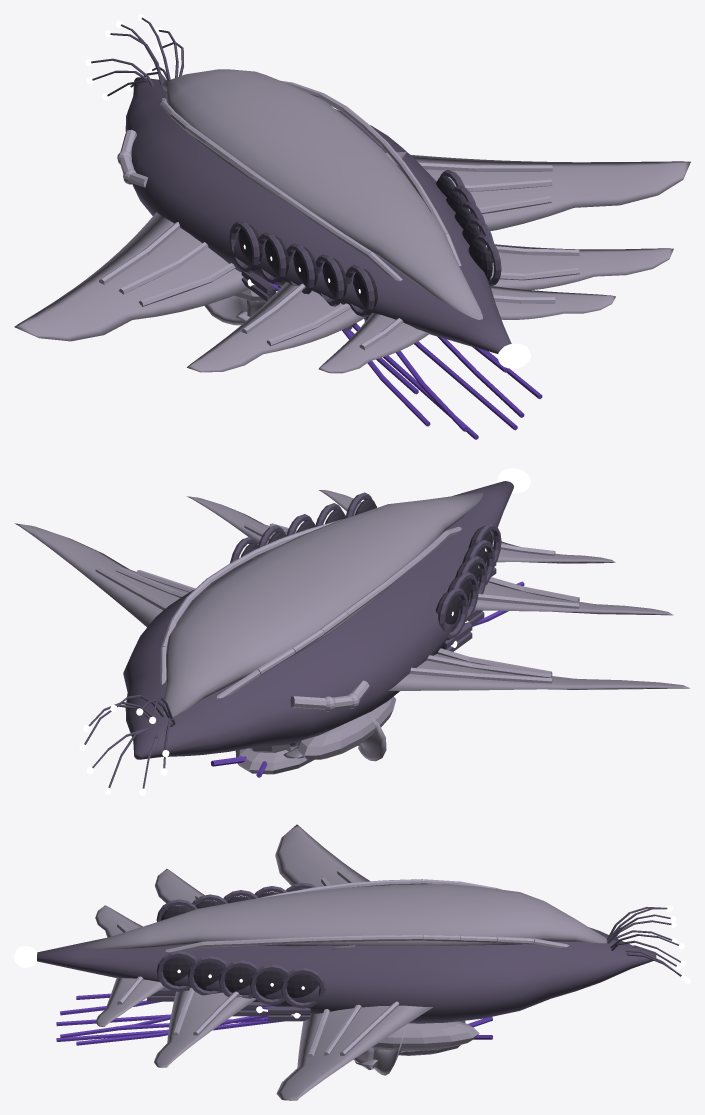
3 renders of one model, top to bottom at view 1: azimuth 30°, elevation 25°; view 2: azimuth 150°, elevation 25°; view 3: azimuth 270°, elevation 25°, orthographic. The views are drawn at different scales.
Parts seen in each view (by area): view 1: RIMWARD_HULL, RIMWARD_ENGINE_GLOW; view 2: RIMWARD_HULL, RIMWARD_ENGINE_GLOW, RIMWARD_EMISSIVE; view 3: RIMWARD_HULL, RIMWARD_EMISSIVE.
Part boxes in pixels (left/top/right/bottom): RIMWARD_HULL: left=14, top=17, right=690, bottom=439; RIMWARD_ENGINE_GLOW: left=497, top=343, right=530, bottom=368; RIMWARD_HULL: left=14, top=481, right=689, bottom=788; RIMWARD_ENGINE_GLOW: left=497, top=468, right=530, bottom=493; RIMWARD_EMISSIVE: left=79, top=548, right=486, bottom=795; RIMWARD_HULL: left=37, top=824, right=681, bottom=1100; RIMWARD_EMISSIVE: left=177, top=905, right=690, bottom=1018.
Size of the model in its own units: 10.56 by 2.71 by 10.93.
